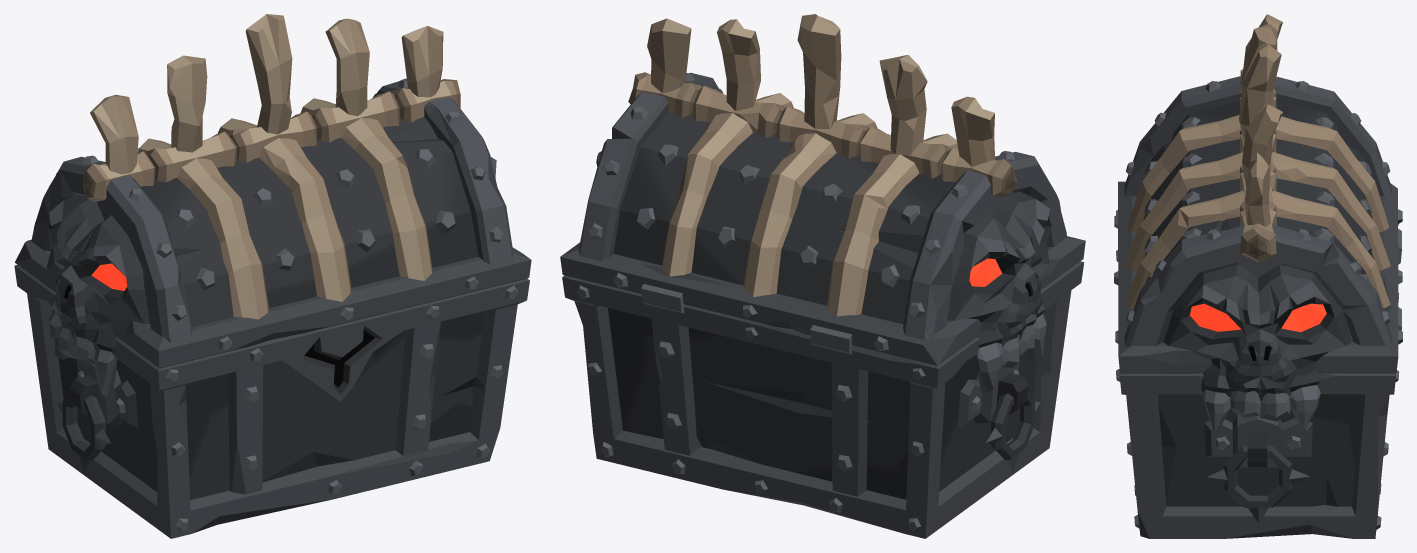
File: SM_Prop_Chest_03.fbx
3 renders of one model, left to right at view 1: azimuth 30°, elevation 25°; view 2: azimuth 150°, elevation 25°; view 3: azimuth 270°, elevation 25°, orthographic. The views are drawn at different scales.
Parts seen in each view (by area): view 1: SM_Prop_Chest_03_Lid, SM_Prop_Chest_03; view 2: SM_Prop_Chest_03_Lid, SM_Prop_Chest_03; view 3: SM_Prop_Chest_03_Lid, SM_Prop_Chest_03.
Part boxes in pixels (box(x1,y1,x2,y2)): SM_Prop_Chest_03_Lid: box(15, 14, 531, 397); SM_Prop_Chest_03: box(14, 265, 529, 538); SM_Prop_Chest_03_Lid: box(560, 14, 1085, 392); SM_Prop_Chest_03: box(562, 261, 1084, 538); SM_Prop_Chest_03_Lid: box(1114, 14, 1402, 436); SM_Prop_Chest_03: box(1116, 210, 1401, 538).
Size of the model in its own units: 123 by 122 by 76.25.
Materials: 3 (3 with a texture image).
